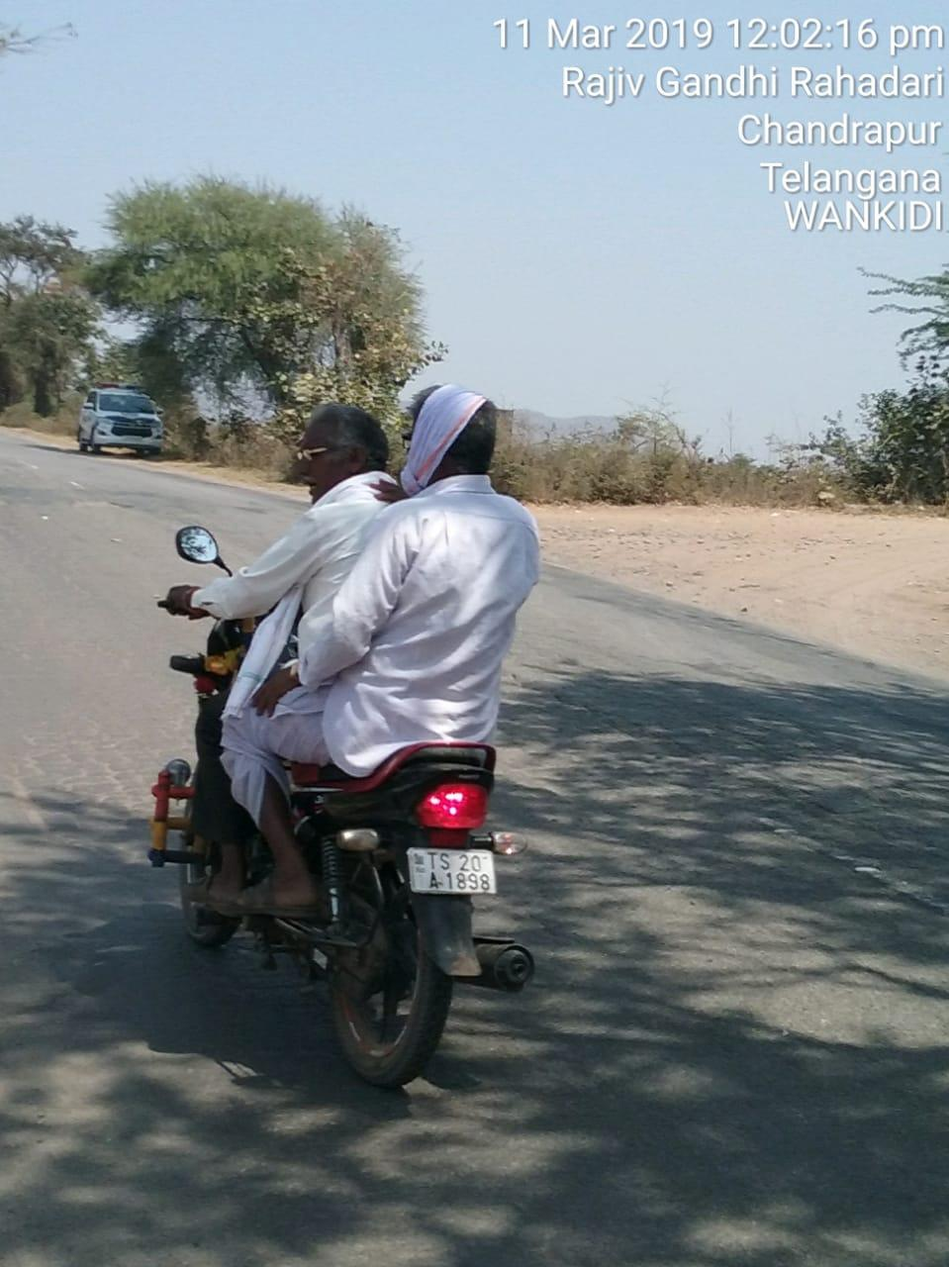plate: (400, 841, 505, 906)
